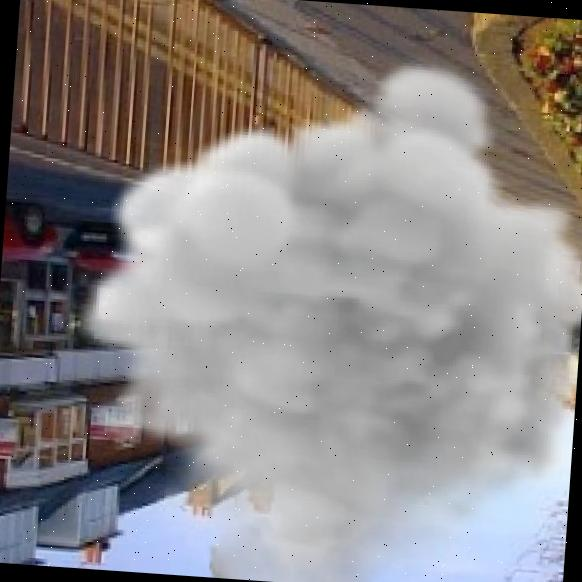smoke: (57, 32, 582, 582)
